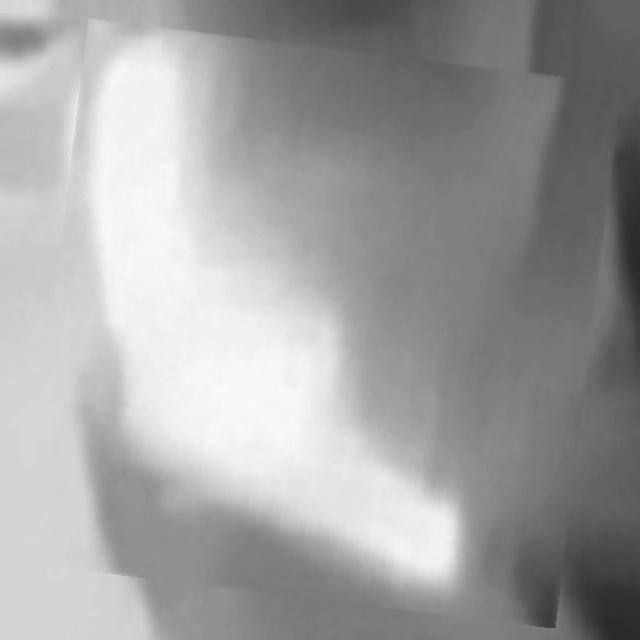Weapon: (37, 34, 606, 613)
